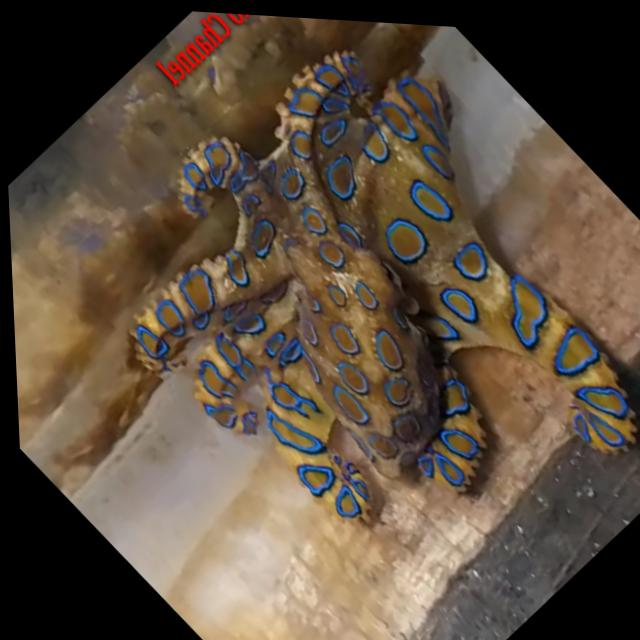blue_ringed_octopus: (36, 2, 640, 640)
